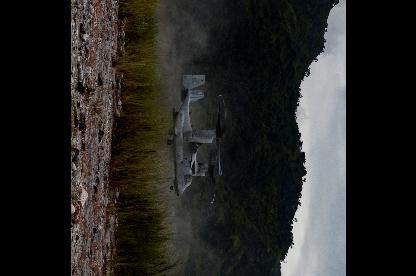Tornado: (166, 76, 226, 205)
